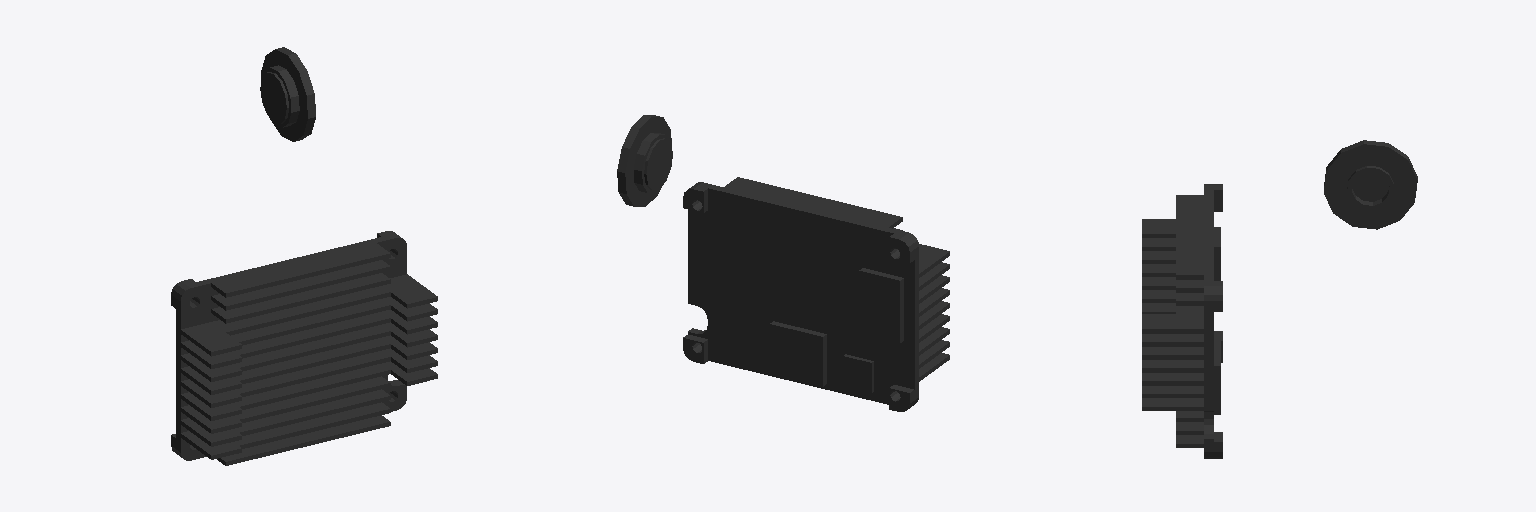
File: Robot_Football_Player_SKS_2501_Head_B0348_Head_Base_06v1_1_mesh_6.obj
The picture shows the model from 3 angles: view 1: azimuth 30°, elevation 25°; view 2: azimuth 150°, elevation 25°; view 3: azimuth 270°, elevation 25°; orthographic projection.
Bounding box in the file's own units: 0.055 × 0.0704 × 0.0579.